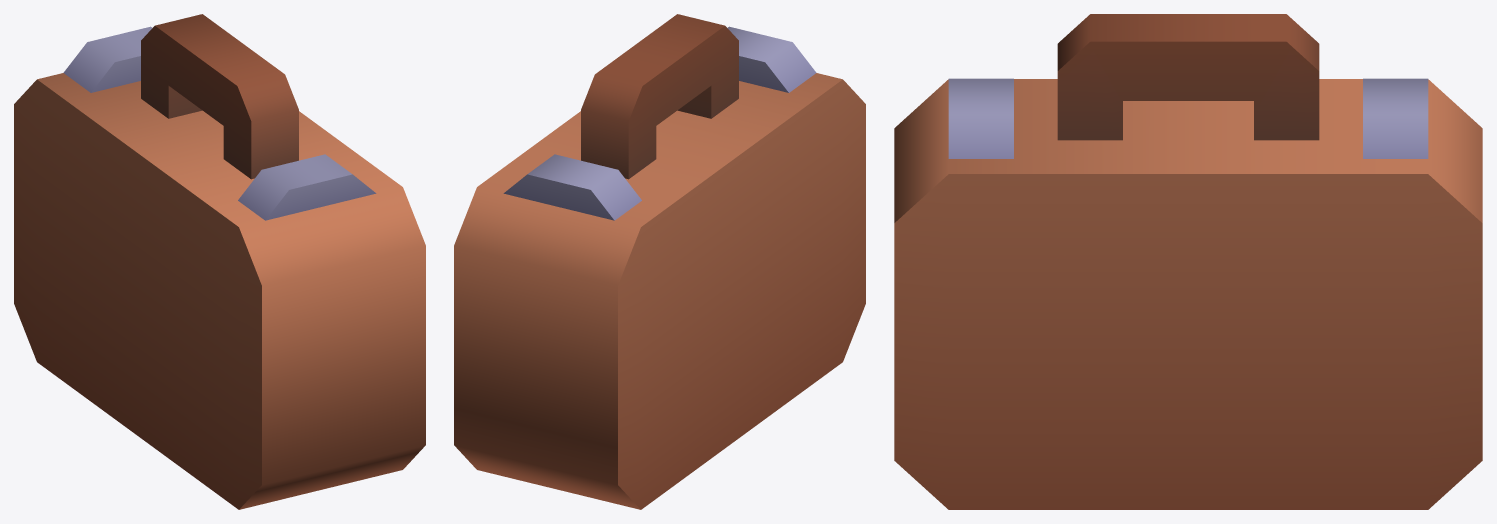
The model's file is luggage.fbx.
3 renders of one model, left to right at view 1: azimuth 30°, elevation 25°; view 2: azimuth 150°, elevation 25°; view 3: azimuth 270°, elevation 25°, orthographic. The views are drawn at different scales.
Visible parts, largest first — view 1: item-luggage; view 2: item-luggage; view 3: item-luggage.
Boxes of the visible parts, left/top/right/bottom form: item-luggage: left=14, top=14, right=425, bottom=509; item-luggage: left=454, top=14, right=865, bottom=509; item-luggage: left=894, top=14, right=1482, bottom=509.
Size of the model in its own units: 0.4691 by 1 by 1.23.
